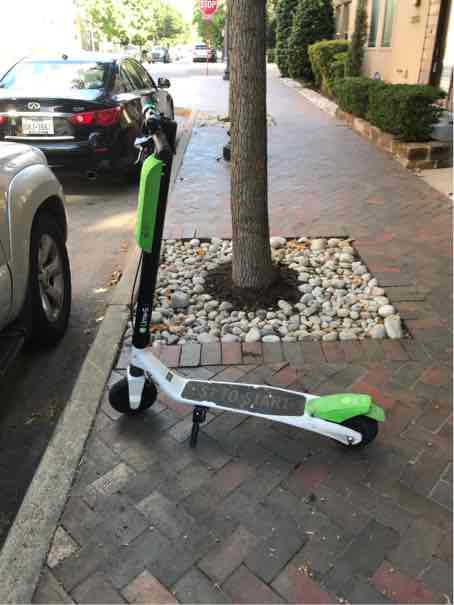scooter: (101, 89, 390, 454)
